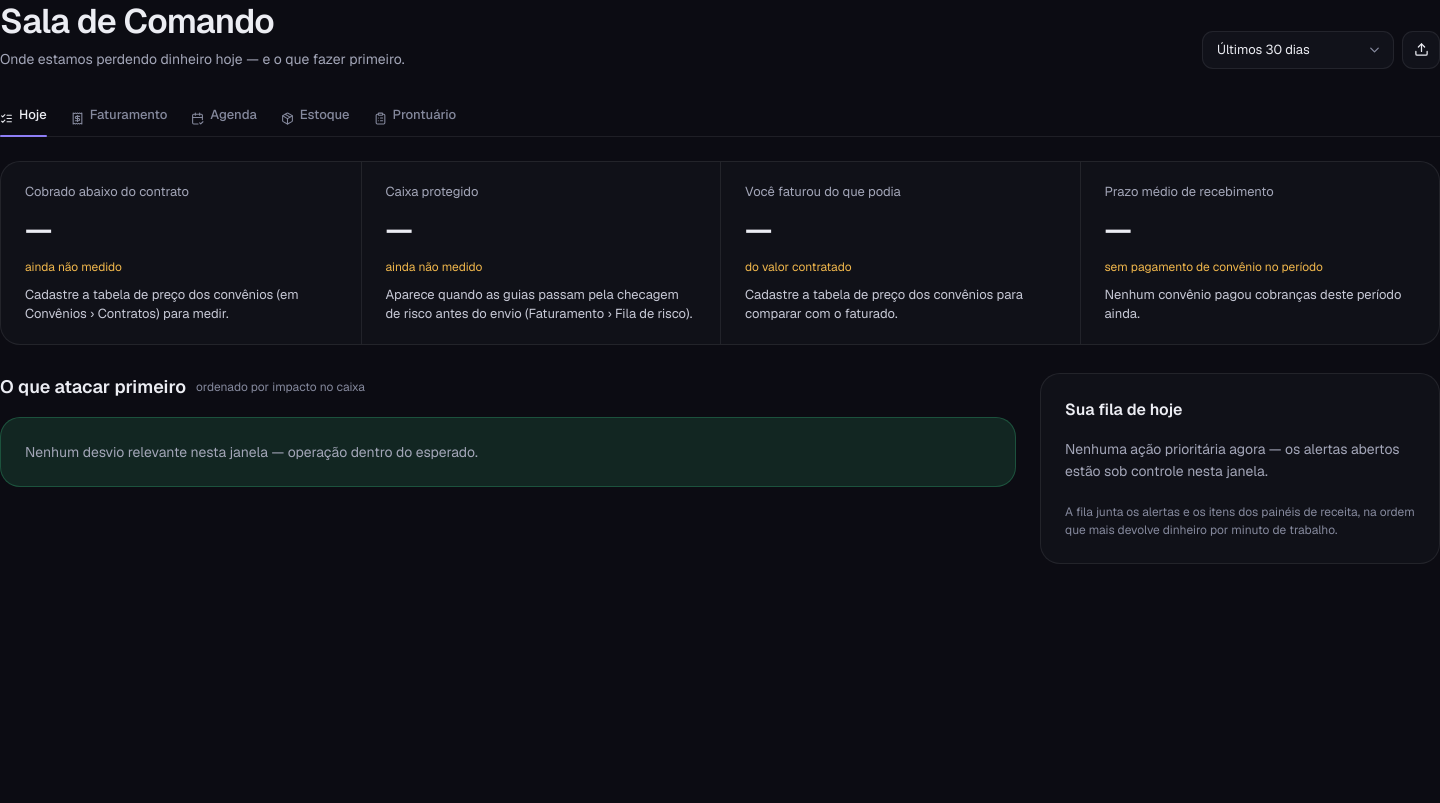
Test case: ExecutiveOverviewPage › tem só as 5 abas enxutas (Hoje, Faturamento, Agenda, Estoque, Prontuário) e troca entre elas
Expected: the text "Nenhuma ação prioritária agora" is shown, [1065, 440, 1400, 480]
Click the tab "Faturamento": (119, 114) [71, 92, 167, 136]
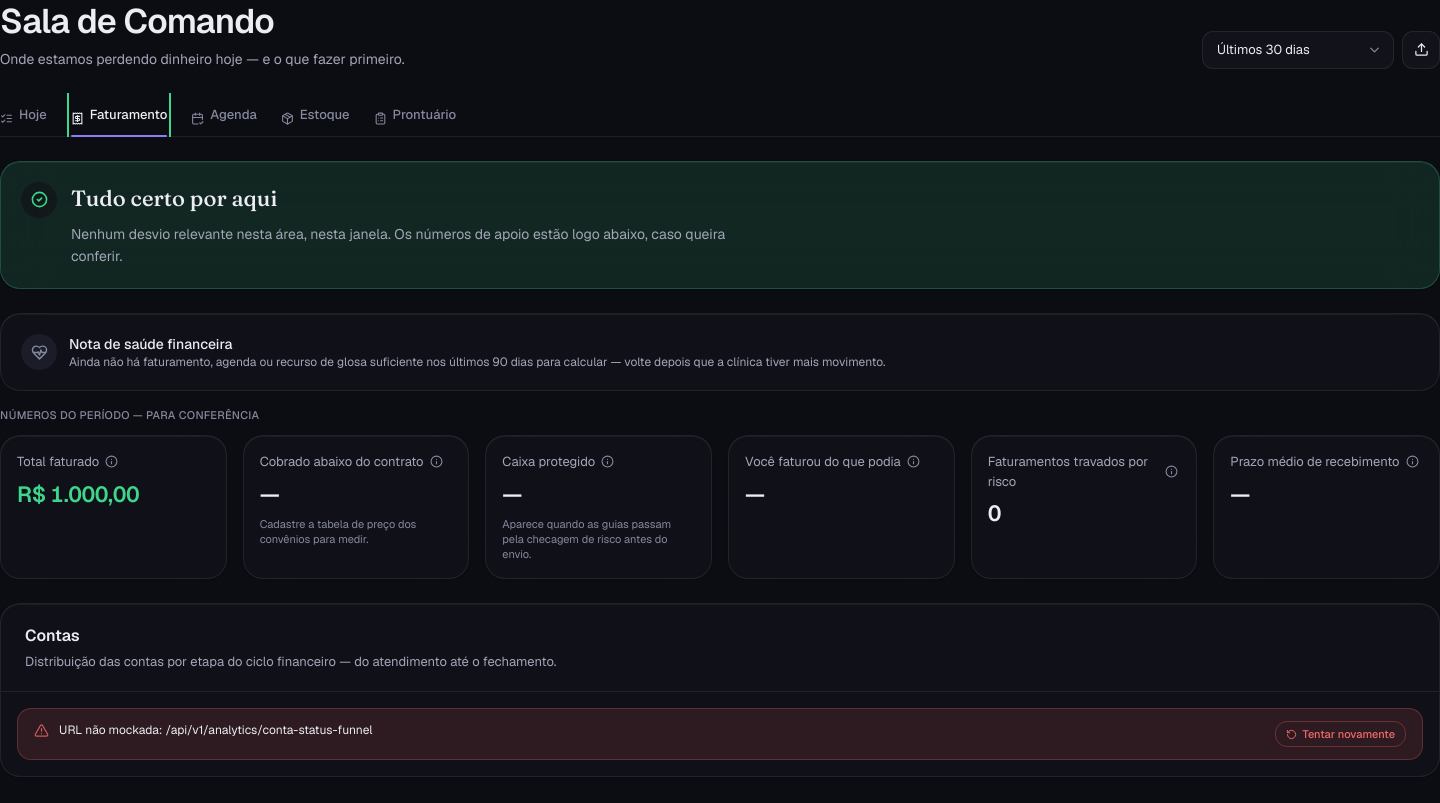
Click the tab "Agenda": (224, 114) [191, 92, 257, 136]
(page scrolled)
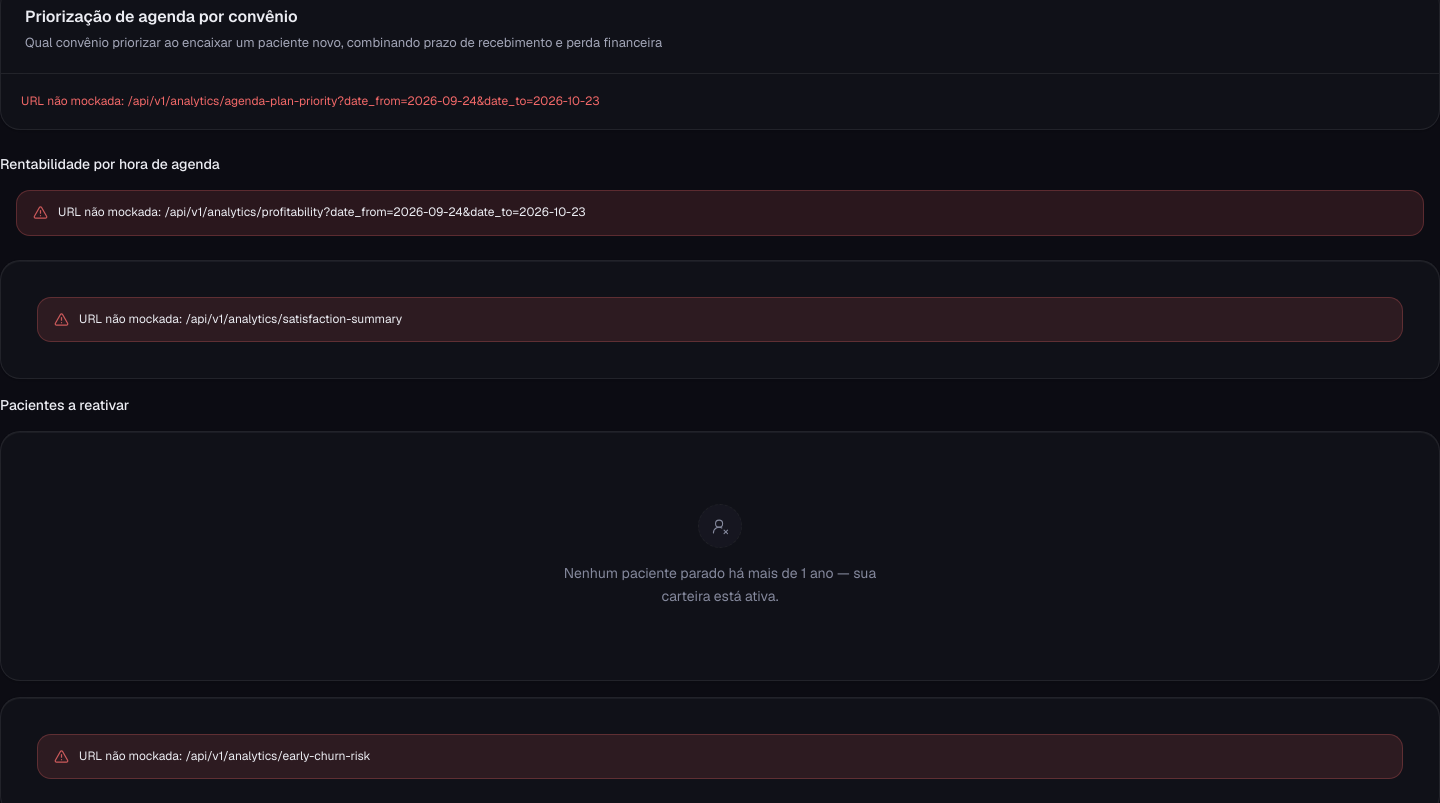
Now the heading "Pacientes a reativar" is shown, box [0, 396, 129, 414]
